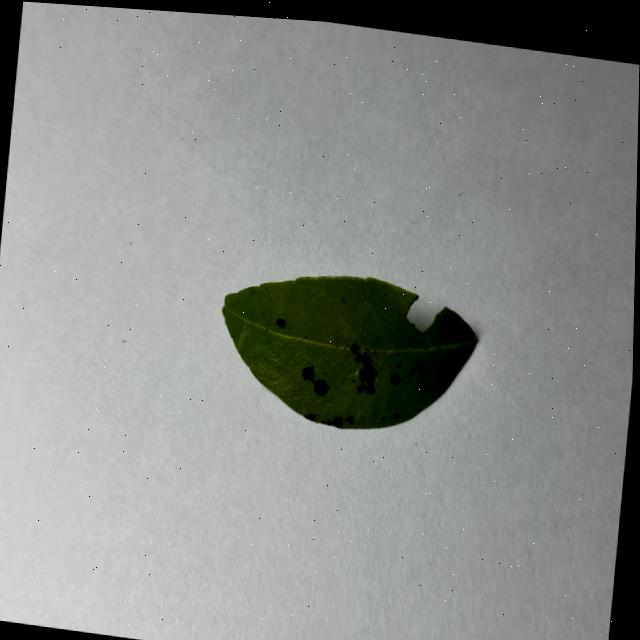sooty_mold: (221, 276, 476, 429)
